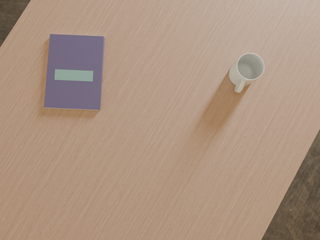book: (44, 34, 104, 110)
cup: (229, 53, 264, 93)
